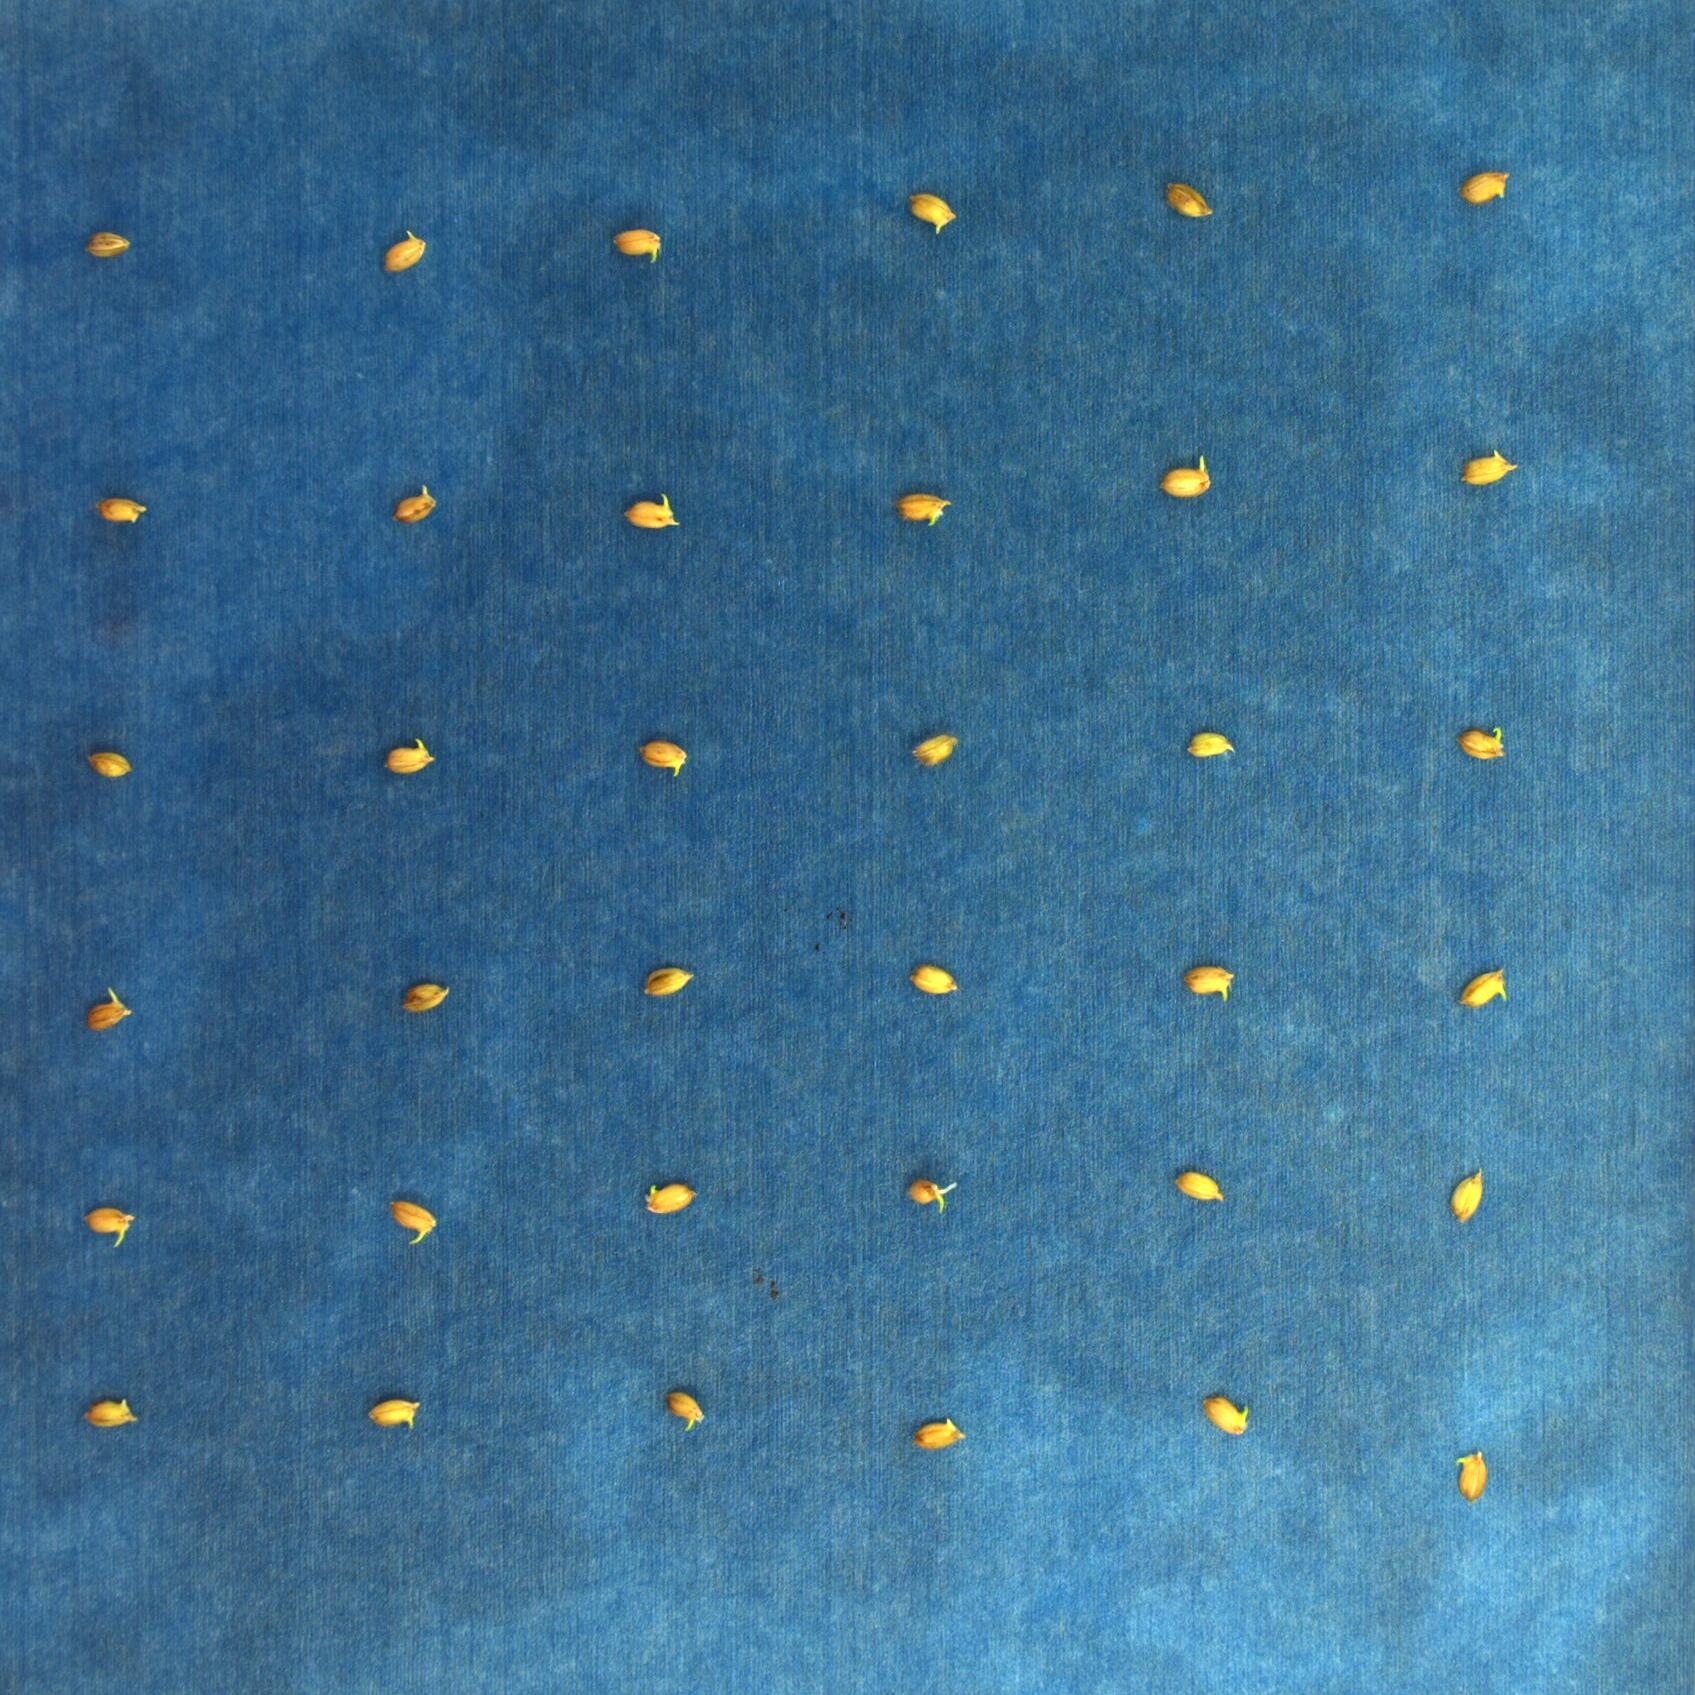not sprout: (1159, 453, 1212, 500), (1458, 449, 1520, 486), (1201, 1392, 1250, 1439), (1461, 967, 1512, 1010), (896, 492, 953, 529), (1450, 1166, 1485, 1225), (1163, 179, 1212, 220), (622, 494, 678, 531), (88, 986, 130, 1034), (365, 1397, 421, 1433), (1184, 964, 1237, 1001), (379, 231, 425, 273), (908, 192, 958, 231), (663, 1388, 706, 1431), (1454, 726, 1509, 761), (641, 965, 695, 1000), (913, 734, 961, 771), (612, 227, 661, 262), (905, 1180, 959, 1212), (1461, 171, 1512, 205), (383, 739, 435, 773), (646, 1181, 697, 1215), (82, 1399, 138, 1430), (913, 1419, 965, 1451), (640, 739, 688, 775), (391, 484, 435, 523), (1175, 1170, 1226, 1203), (908, 962, 959, 993), (1454, 1450, 1485, 1499), (95, 495, 146, 525), (400, 983, 449, 1014), (82, 230, 132, 258), (1187, 730, 1234, 759), (87, 751, 132, 779)
sprout: (390, 1198, 445, 1243), (84, 1208, 133, 1250)
